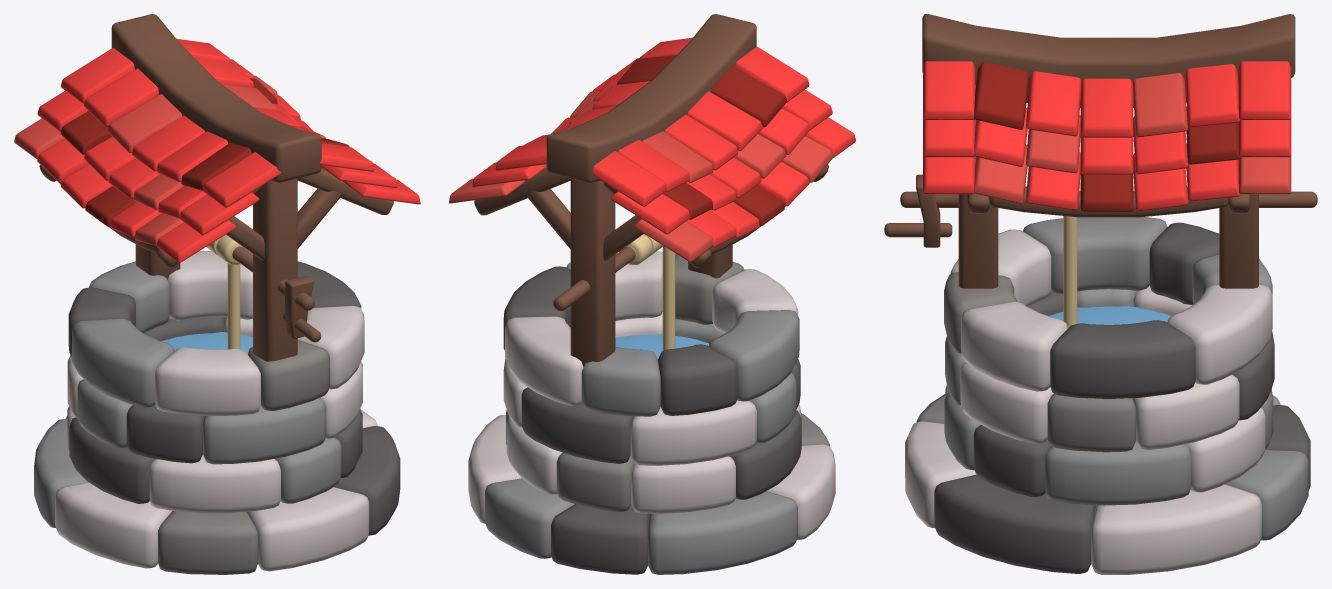
Rendered from well.fbx.
3 views of the same model, side by side, from view 1: azimuth 30°, elevation 25°; view 2: azimuth 150°, elevation 25°; view 3: azimuth 270°, elevation 25° (orthographic). The views are drawn at different scales.
Visible parts, largest first — view 1: Cube.014; view 2: Cube.014; view 3: Cube.014.
Boxes of the visible parts, box(x1,y1,x2,y2) form: Cube.014: box(14, 14, 420, 574); Cube.014: box(449, 14, 855, 574); Cube.014: box(884, 14, 1317, 574).
Size of the model in its own units: 953 by 1218 by 1018.
